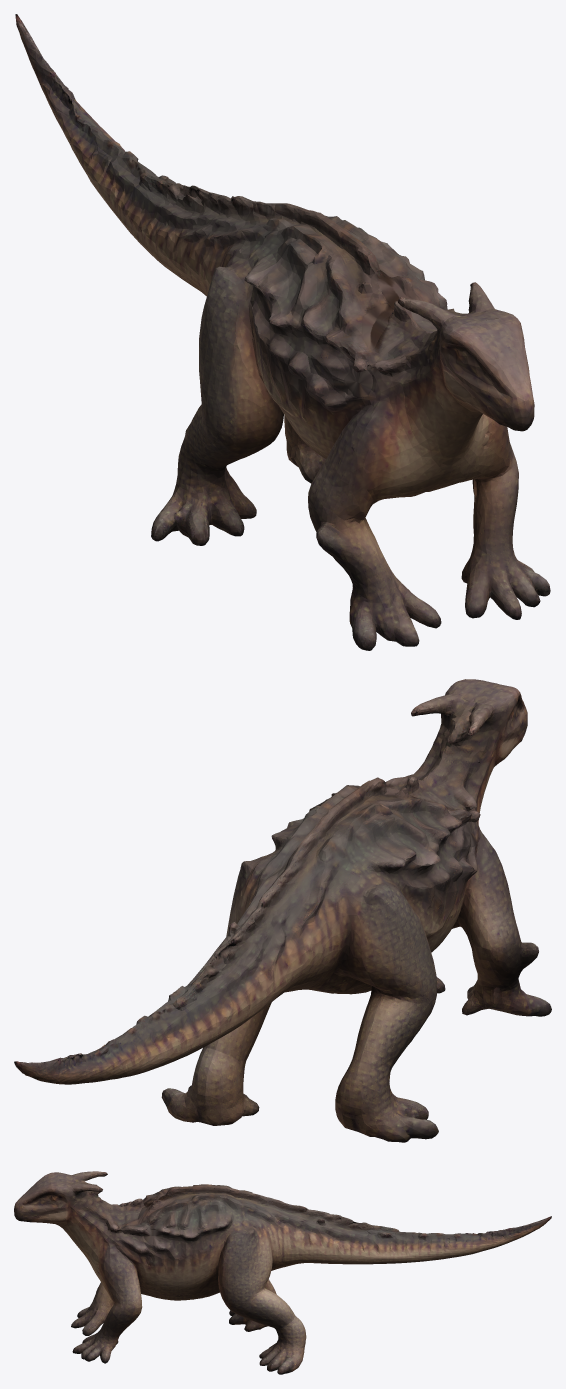
3 views of the same model, one above another, from view 1: azimuth 30°, elevation 25°; view 2: azimuth 150°, elevation 25°; view 3: azimuth 270°, elevation 25° (orthographic). The views are drawn at different scales.
Visible parts, largest first — view 1: world; view 2: world; view 3: world.
Part boxes in pixels (x1,y1,x2,y2): world: (15,14,550,650); world: (14,679,551,1142); world: (14,1171,551,1374).
Bounding box in the file's own units: 0.2926 × 0.3411 × 0.9958.
Materials: 8 (1 with a texture image).
